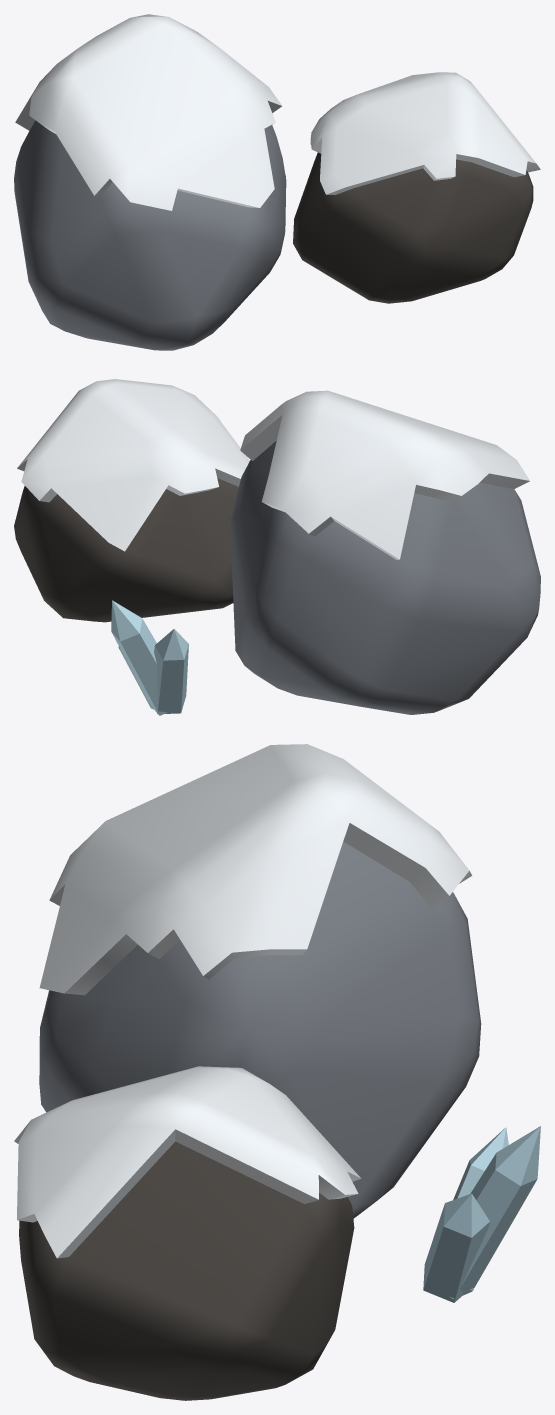
Rendered from rocher_toundra_2.glb.
3 views of the same model, one above another, from view 1: azimuth 30°, elevation 25°; view 2: azimuth 150°, elevation 25°; view 3: azimuth 270°, elevation 25° (orthographic). The views are drawn at different scales.
Parts seen in each view (by area): view 1: neige_neige.006, roche_granite.006, roche_pierre_sombre.010; view 2: roche_granite.006, neige_neige.006, roche_pierre_sombre.010, glace_glace.002; view 3: neige_neige.006, roche_granite.006, roche_pierre_sombre.010, glace_glace.002.
Boxes of the visible parts, bbox=[...] form: neige_neige.006: bbox=[15, 14, 540, 210]; roche_granite.006: bbox=[14, 120, 286, 350]; roche_pierre_sombre.010: bbox=[293, 152, 533, 303]; roche_granite.006: bbox=[230, 441, 540, 714]; neige_neige.006: bbox=[17, 379, 529, 559]; roche_pierre_sombre.010: bbox=[14, 478, 238, 622]; glace_glace.002: bbox=[111, 600, 188, 715]; neige_neige.006: bbox=[14, 744, 472, 1258]; roche_granite.006: bbox=[39, 841, 481, 1218]; roche_pierre_sombre.010: bbox=[19, 1141, 354, 1400]; glace_glace.002: bbox=[423, 1126, 540, 1302].
Bounding box in the file's own units: 0.8718 × 0.5102 × 0.5537.
